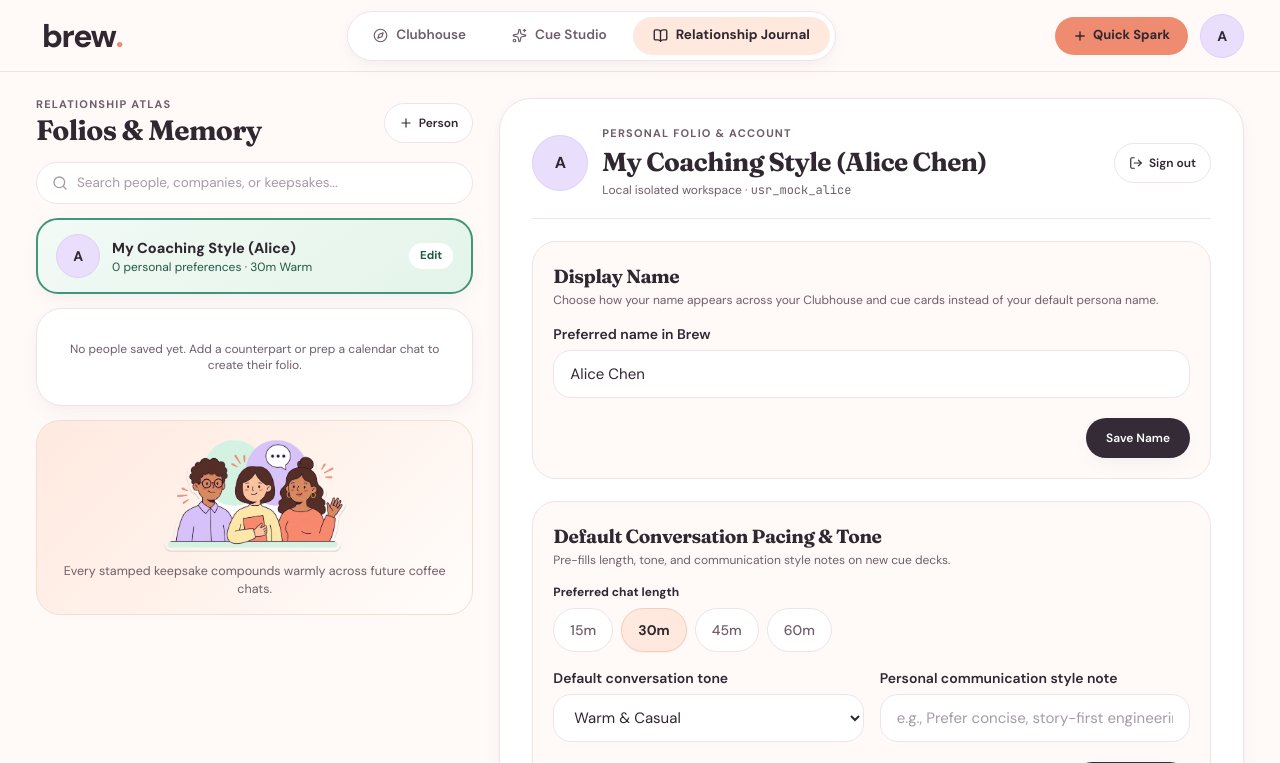
Test: Brew v2 Integration & Feature-Parity Regression Suite › covers empty states, contact form validation, structured 422 API errors, and 1-click GCal slot prep
Earlier steps of the test are not shown.
Later steps or results of the test are not shown.
Expected: the heading "Folios & Memory" is shown, [36, 113, 262, 148]
Click the button "Person": x=428, y=123 [384, 103, 473, 143]
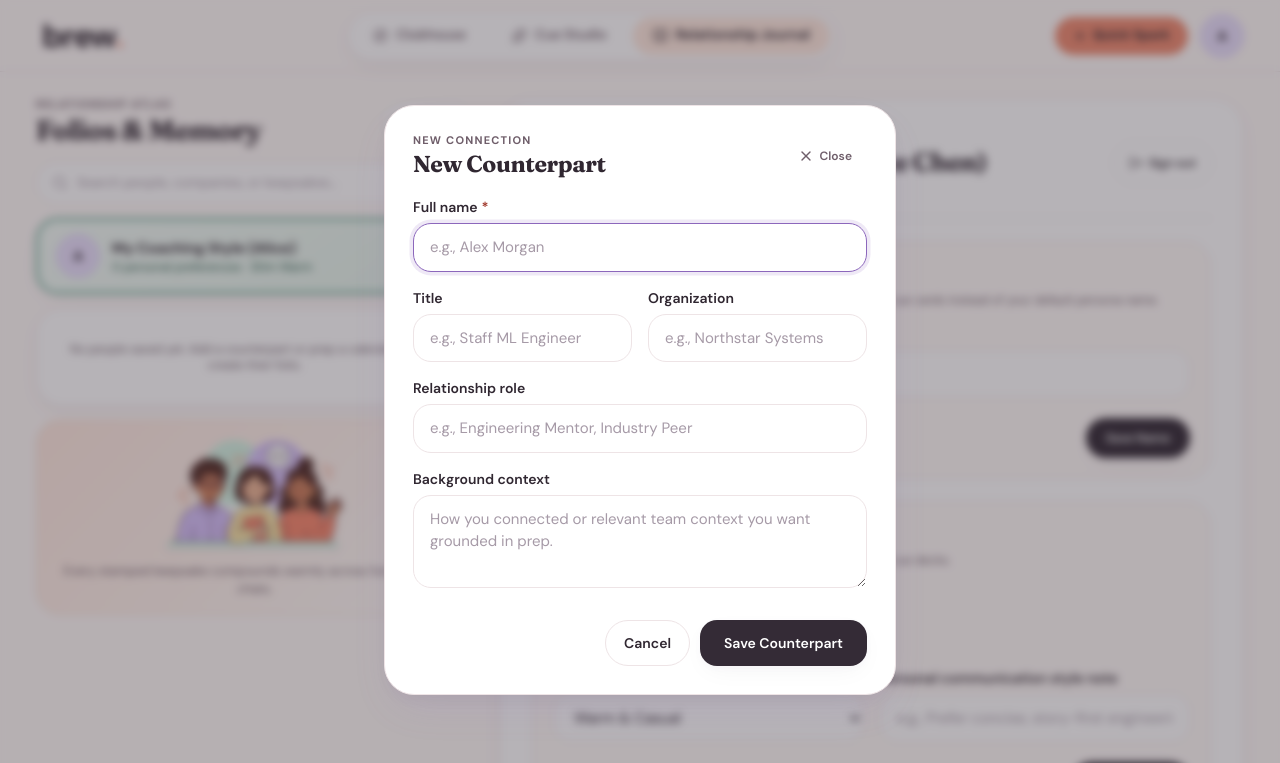
Click the button "Save Counterpart": x=784, y=642 [700, 620, 867, 666]
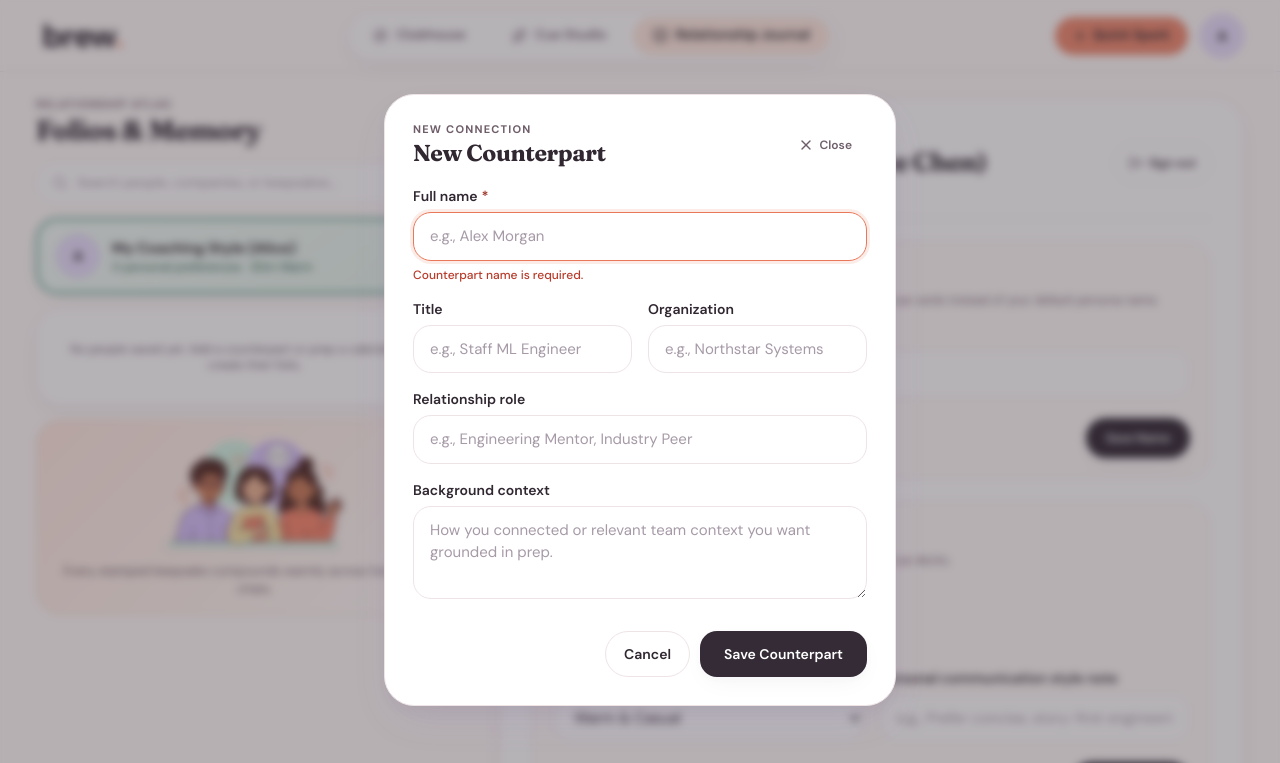
Expected: the text "Counterpart name is required." is shown, [413, 267, 583, 283]
In the field labelled "Full name*": x=640, y=237 [413, 212, 867, 261], type "Alex Morgan"
Replace the text in the text box labelled "Background context" with "Hi": x=640, y=553 [413, 506, 867, 599]
Click the button "Save Counterpart": x=784, y=654 [700, 630, 867, 676]
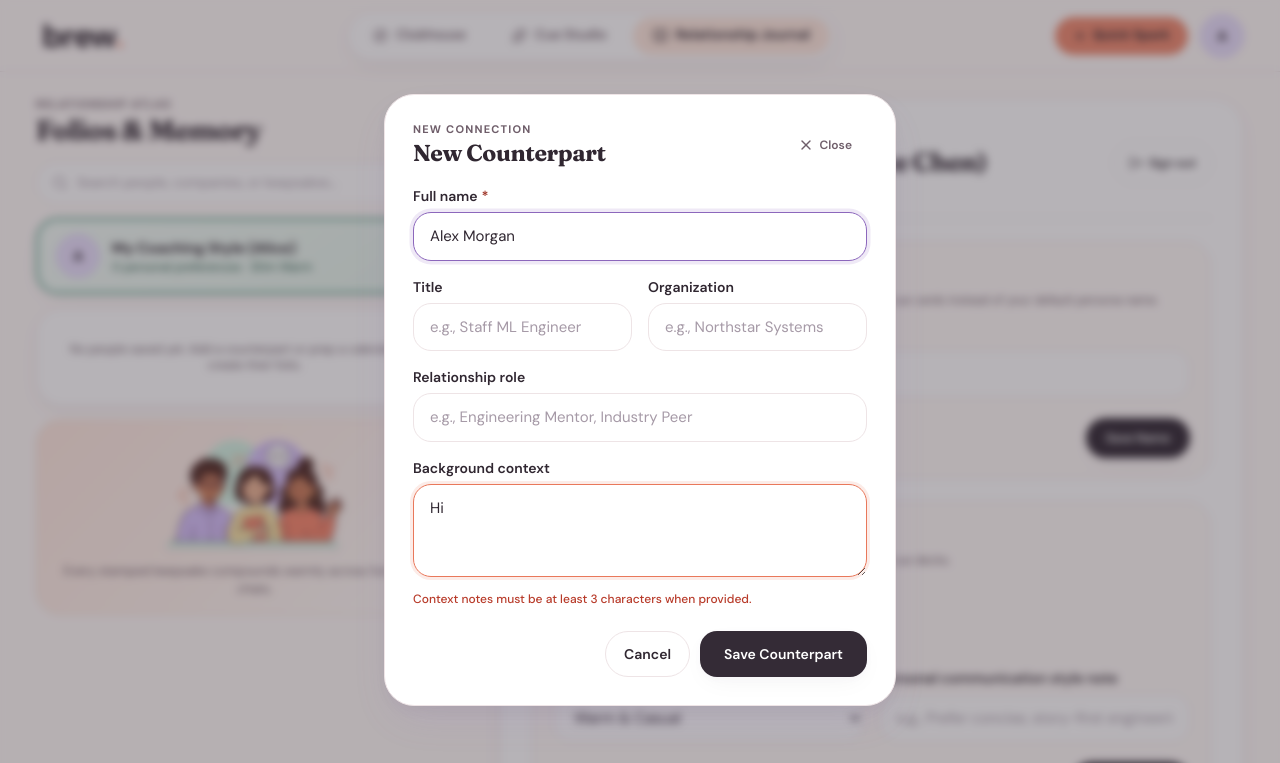
Expected: the text "Context notes must be at least 3 characters when provided." is shown, [413, 590, 752, 606]
Replace the text in the text box labelled "Background context" with "Met at the AI systems workshop.": x=640, y=531 [413, 484, 867, 577]
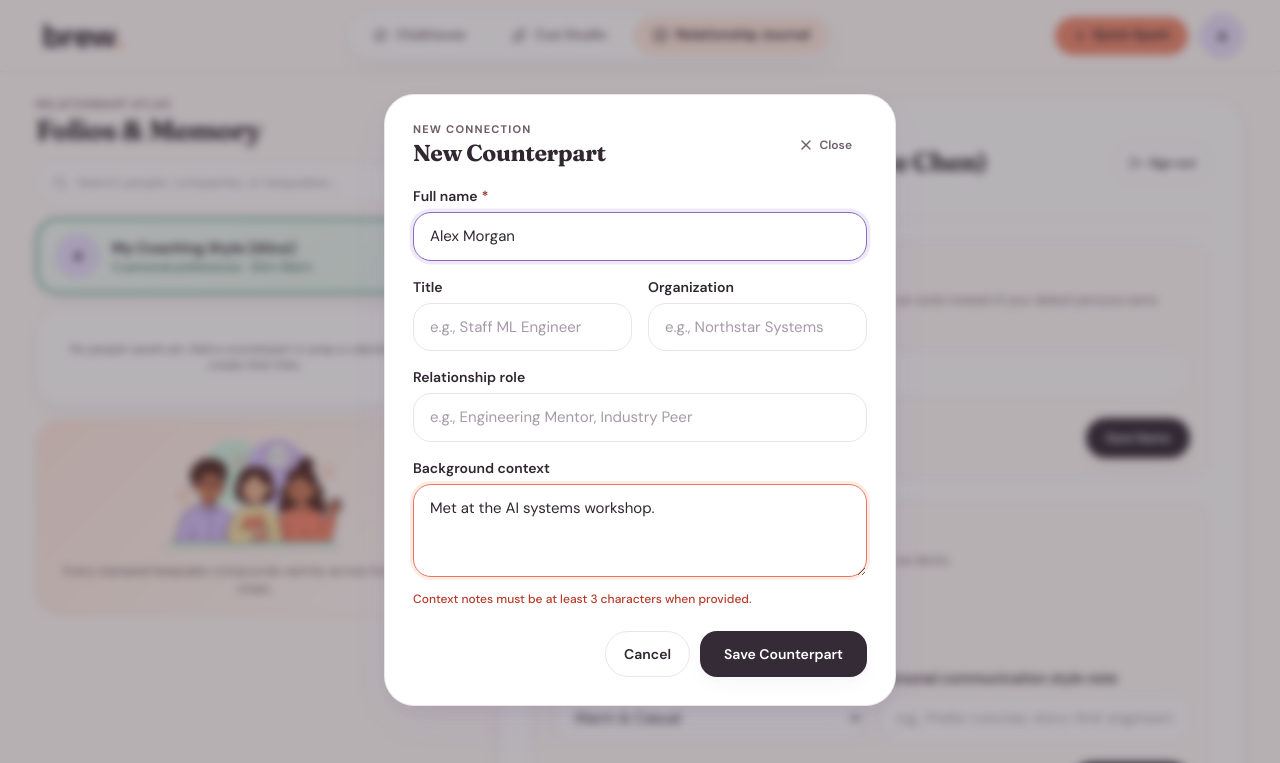
Click the button "Save Counterpart": x=784, y=654 [700, 630, 867, 676]
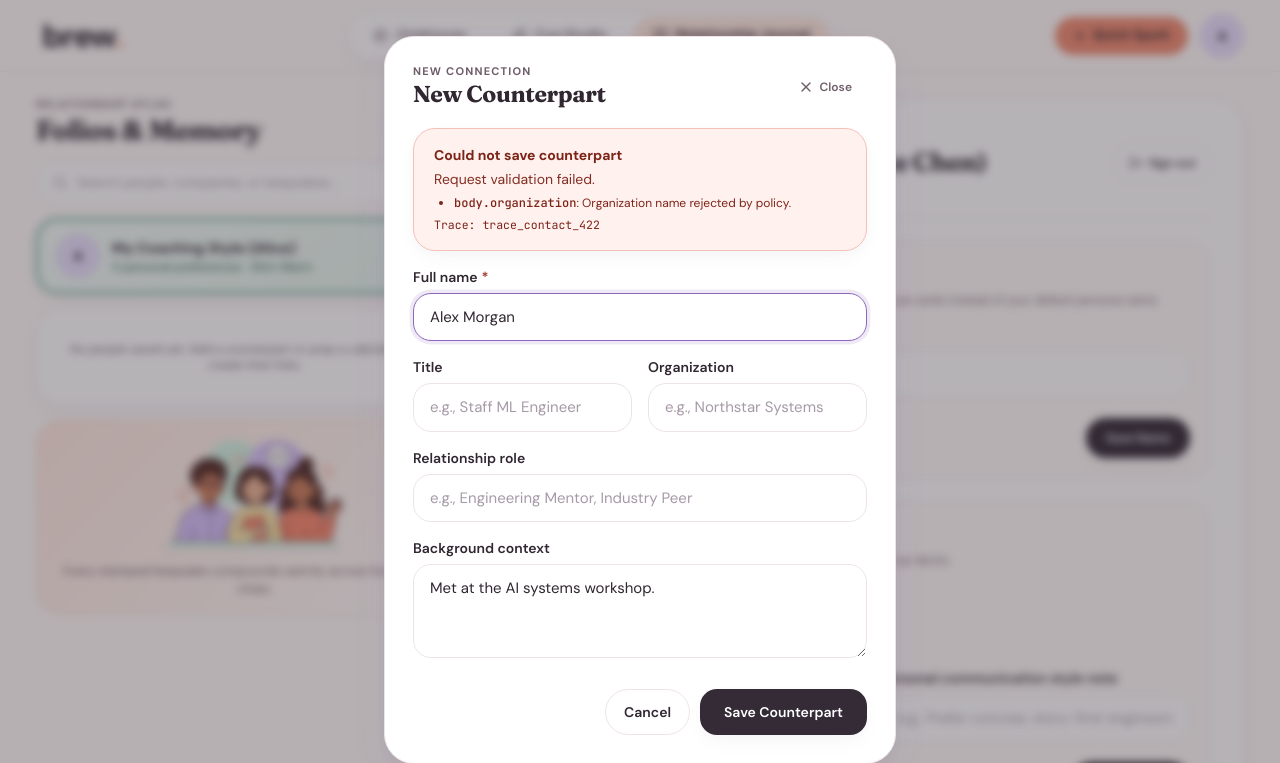
Expected: the list item "body.organization: Organization name rejected by policy." is shown, [454, 195, 791, 211]
Expected: the text "Trace: trace_contact_422" is shown, [434, 217, 600, 232]
Click the button "Save Counterpart": x=784, y=712 [700, 689, 867, 735]
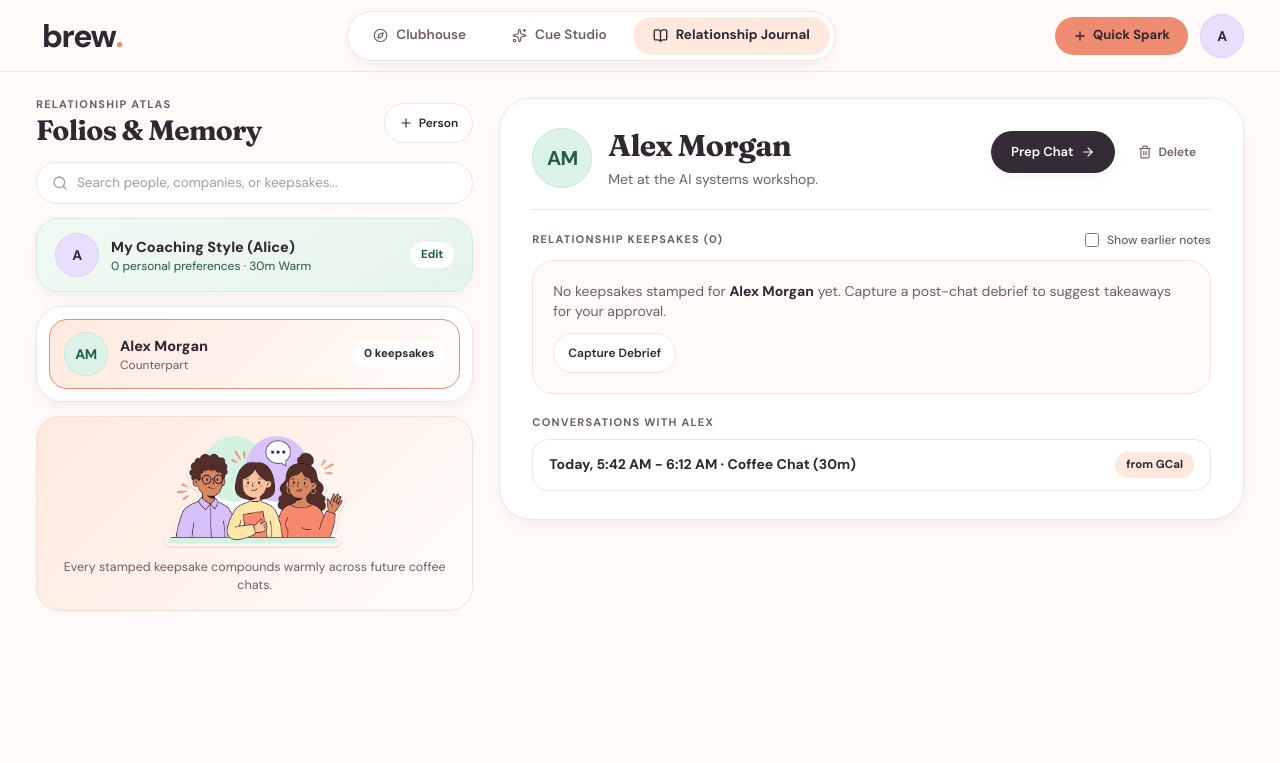
Expected: the heading "Alex Morgan" is shown, [608, 127, 791, 164]
